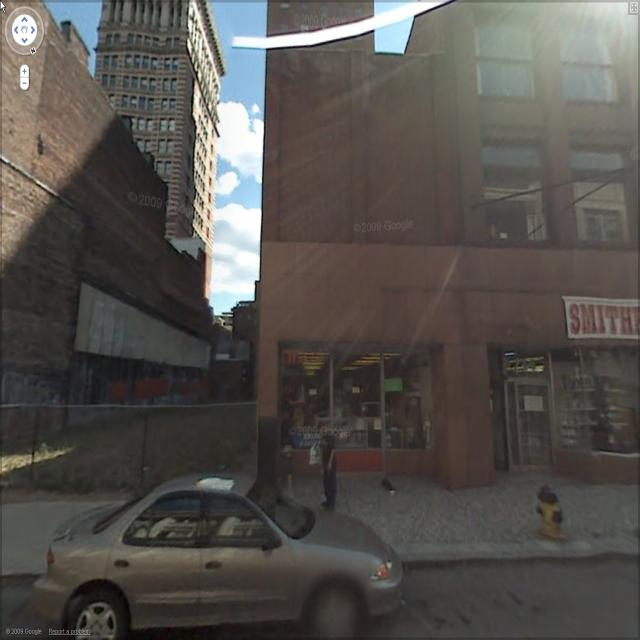b_1: (270, 8, 636, 490), (1, 41, 216, 391), (103, 3, 220, 261)
